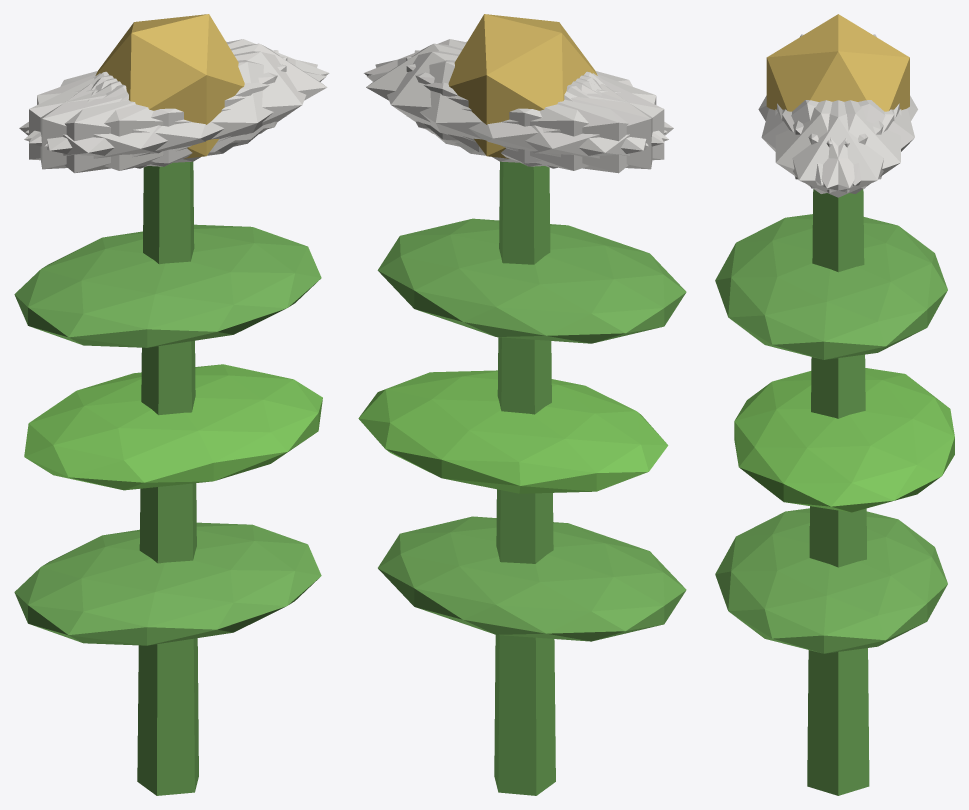
File: acalypha-wilkesiana.glb
3 views of the same model, side by side, from view 1: azimuth 30°, elevation 25°; view 2: azimuth 150°, elevation 25°; view 3: azimuth 270°, elevation 25° (orthographic).
Visible parts, largest first — view 1: leaf2, leaf0, leaf1, stem, center, petal1, petal6, petal2, petal5, petal7, petal0, petal4 (+2 smaller); view 2: leaf2, leaf1, leaf0, stem, center, petal8, petal3, petal7, petal4, petal2, petal0, petal5 (+2 smaller); view 3: leaf2, leaf1, leaf0, stem, center, petal0, petal5, petal4, petal8, petal1.
Part boxes in pixels (x1=…): leaf2: x1=14, y1=224, x2=321, y2=347; leaf0: x1=14, y1=522, x2=321, y2=645; leaf1: x1=24, y1=364, x2=322, y2=490; stem: x1=137, y1=161, x2=198, y2=795; center: x1=95, y1=14, x2=244, y2=158; petal1: x1=24, y1=60, x2=326, y2=170; petal6: x1=19, y1=73, x2=238, y2=173; petal2: x1=40, y1=50, x2=278, y2=169; petal5: x1=44, y1=51, x2=317, y2=163; petal7: x1=29, y1=56, x2=287, y2=166; petal0: x1=95, y1=43, x2=327, y2=152; petal4: x1=25, y1=39, x2=329, y2=143; leaf2: x1=377, y1=218, x2=686, y2=343; leaf1: x1=358, y1=370, x2=668, y2=493; leaf0: x1=378, y1=516, x2=686, y2=641; stem: x1=494, y1=161, x2=555, y2=795; center: x1=448, y1=14, x2=597, y2=158; petal8: x1=367, y1=60, x2=668, y2=170; petal3: x1=455, y1=73, x2=673, y2=173; petal7: x1=414, y1=50, x2=652, y2=169; petal4: x1=375, y1=51, x2=648, y2=163; petal2: x1=406, y1=56, x2=664, y2=166; petal0: x1=366, y1=43, x2=597, y2=152; petal5: x1=364, y1=39, x2=667, y2=143; leaf2: x1=715, y1=214, x2=947, y2=359; leaf1: x1=734, y1=368, x2=954, y2=512; leaf0: x1=715, y1=508, x2=947, y2=653; stem: x1=807, y1=189, x2=869, y2=795; center: x1=766, y1=14, x2=909, y2=111; petal0: x1=777, y1=100, x2=899, y2=197; petal5: x1=775, y1=100, x2=894, y2=193; petal4: x1=782, y1=100, x2=901, y2=193; petal8: x1=793, y1=100, x2=914, y2=185; petal1: x1=761, y1=100, x2=883, y2=185.
Size of the model in its own units: 0.1452 by 0.3541 by 0.1027.
